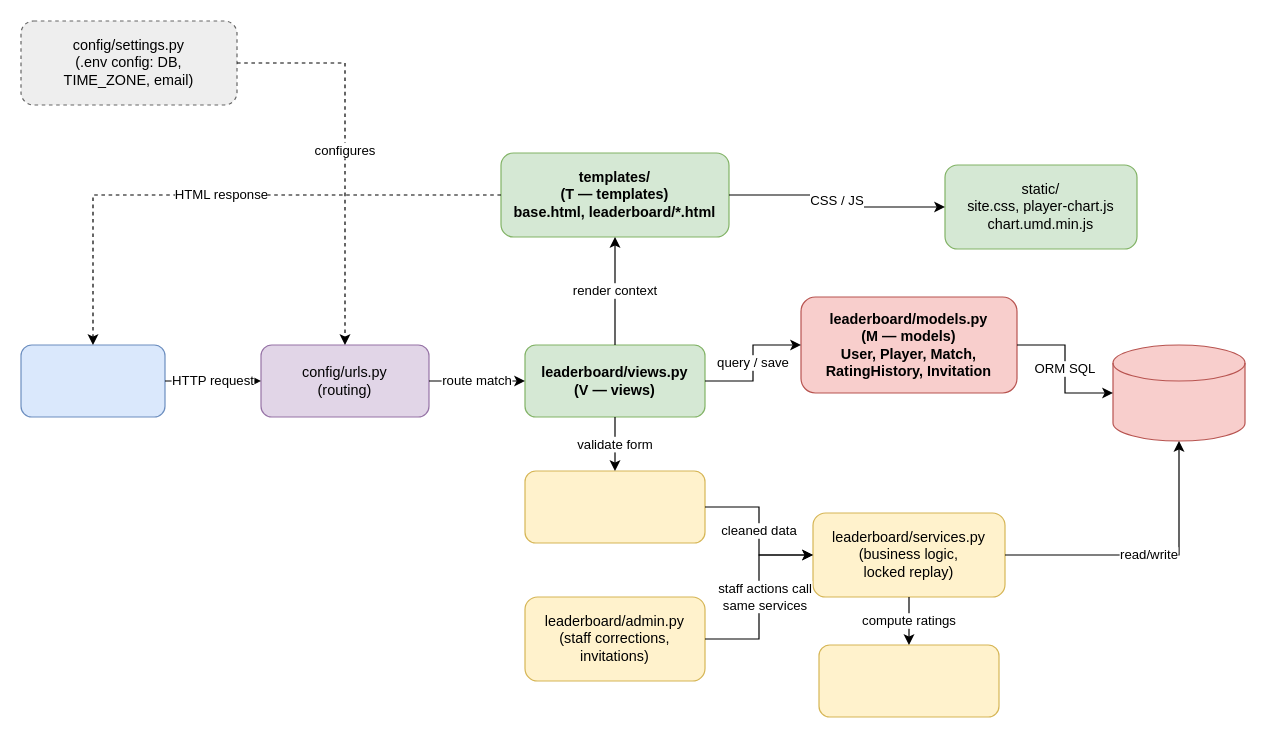
This 1266x738 diagram has some shape labels left out. The shapes that lost their labels are listed below. From the top down, each one's centre as x and y in pixels, then its label:
At (x=92, y=380): "Browser".
At (x=1178, y=392): "PostgreSQL (spikeball db)".
At (x=614, y=506): "leaderboard/forms.py (input validation)".
At (x=908, y=680): "leaderboard/elo.py (pure ELO maths)".
